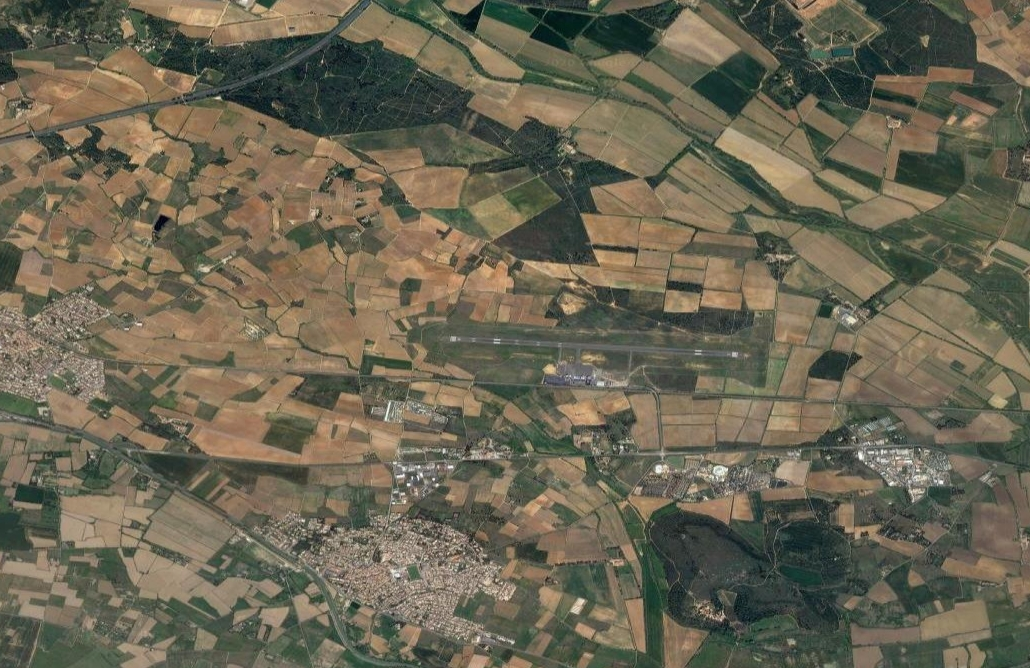airport: (440, 333, 752, 388)
motorway: (309, 1, 371, 58), (228, 51, 308, 93), (142, 81, 227, 114), (63, 105, 141, 131), (1, 122, 63, 147)
